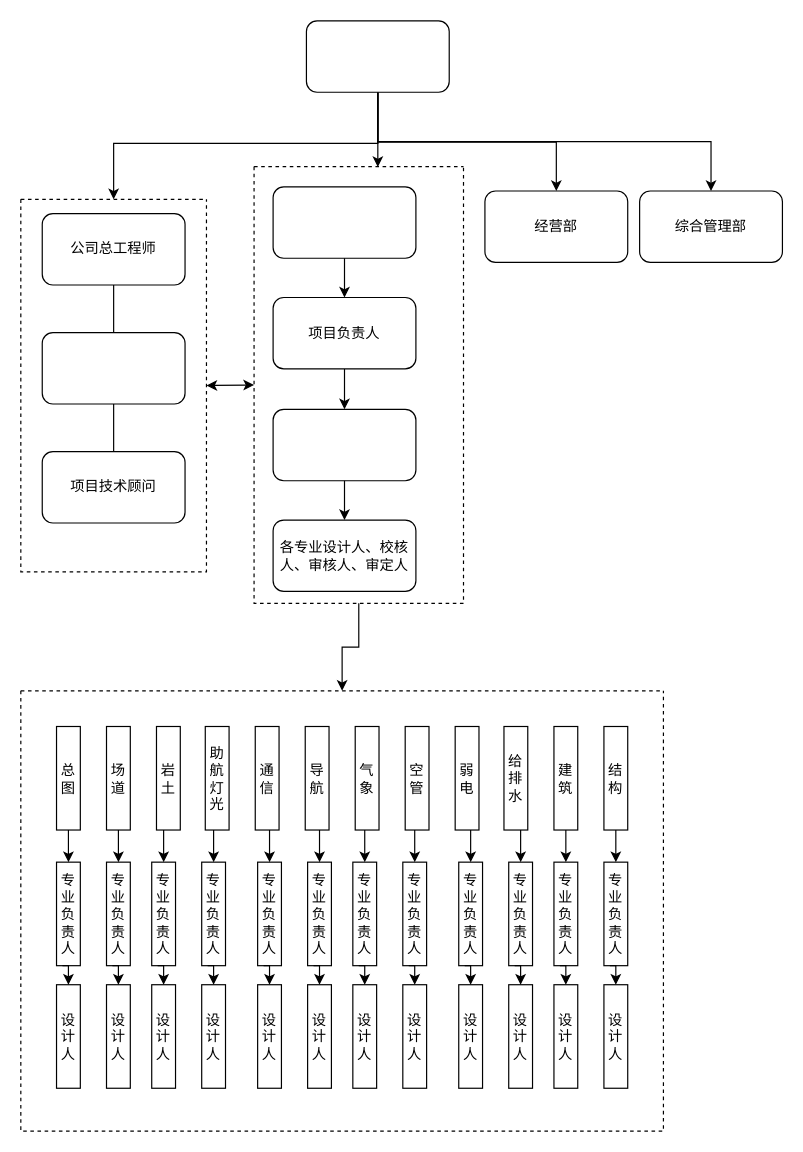
Image size: 803x1152. Some labels were removed from this diagram. Here are the shapes that lost their labels. From the top down, the box of each, then its label:
(305, 20, 449, 92): 公司总经理
(272, 186, 416, 258): 项目分管院长
(41, 331, 185, 404): 设计院总工程师
(272, 408, 416, 481): 各专业负责人
